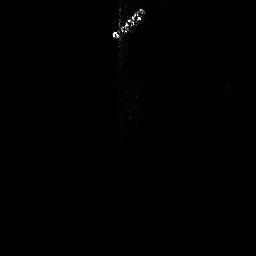ship: (108, 4, 148, 43)
